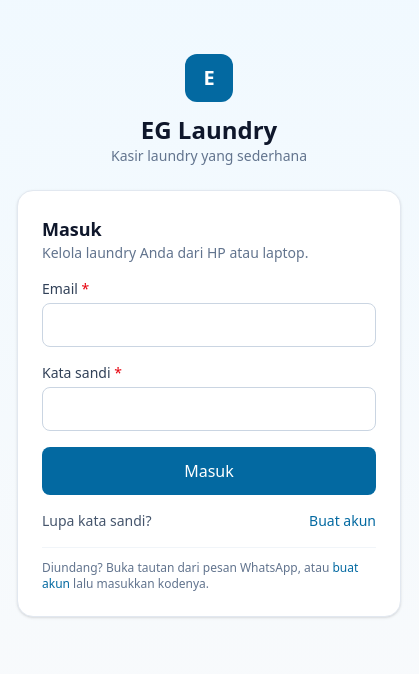
it: LoginPage: Lupa kata sandi? › tells the wife to ask for a temporary password instead of showing Supabase English
This screenshot has width=419, height=674.
Type "istri@gmail.com" into the field labelled "Email *" at (209,324), box top-left (42, 302), bottom-right (376, 346)
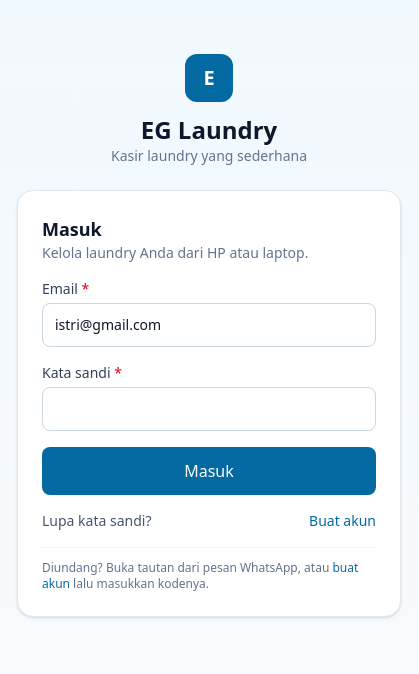
Click the button "Lupa kata sandi?" at (97,520), box top-left (42, 510), bottom-right (152, 530)
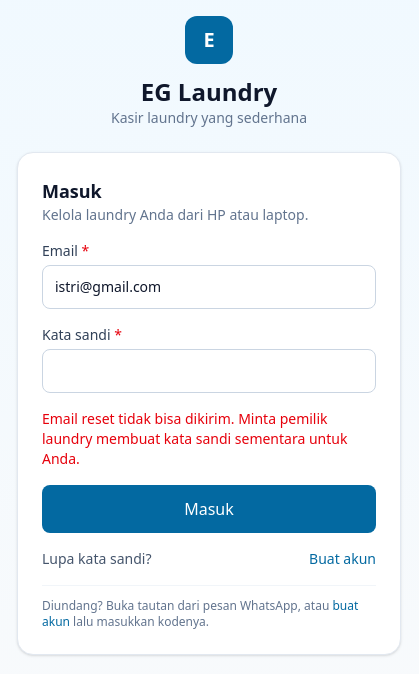
Result: the text "Minta pemilik laundry membuat kata sandi sementara" is shown at top-left (42, 408), bottom-right (347, 468)
